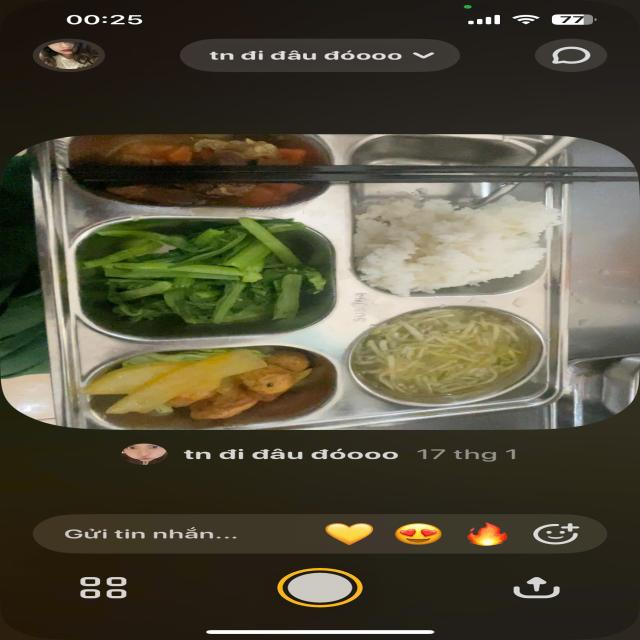canh_cai: (109, 233, 324, 320)
com_trang: (369, 198, 549, 289)
